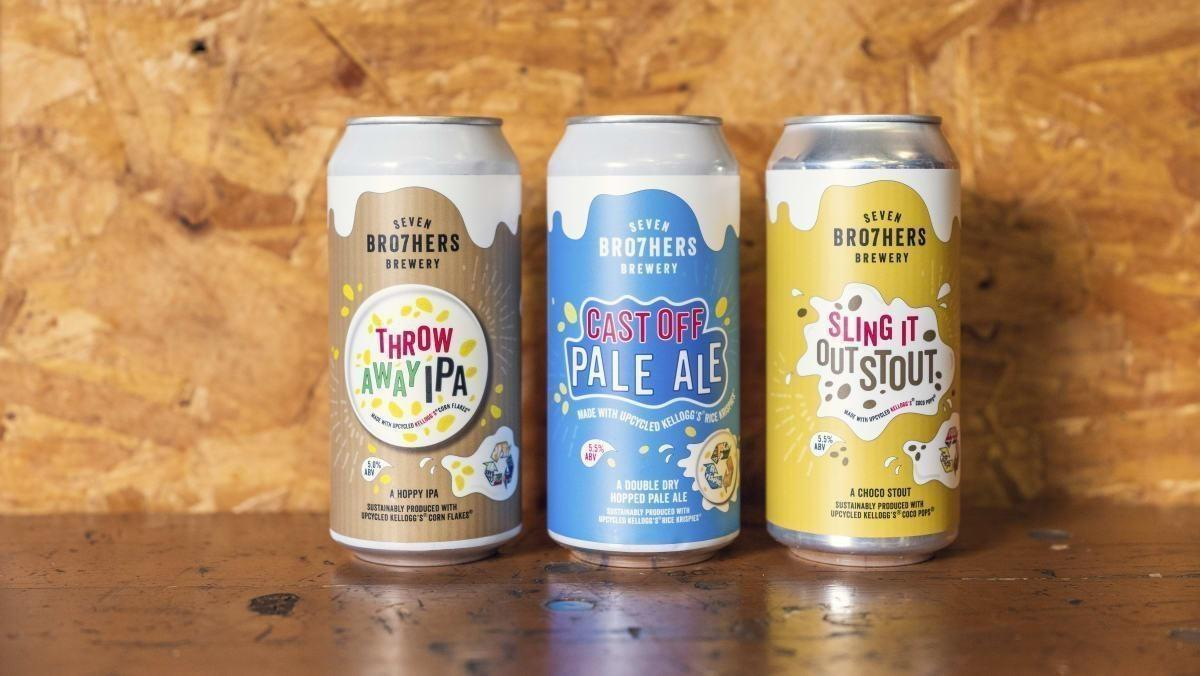tin can: (759, 107, 965, 570), (323, 109, 527, 572), (542, 108, 746, 567)
